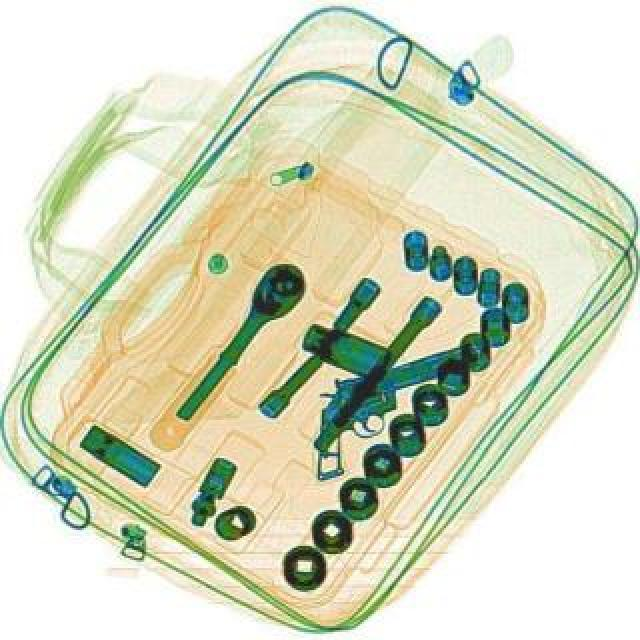gun: (286, 340, 502, 480)
